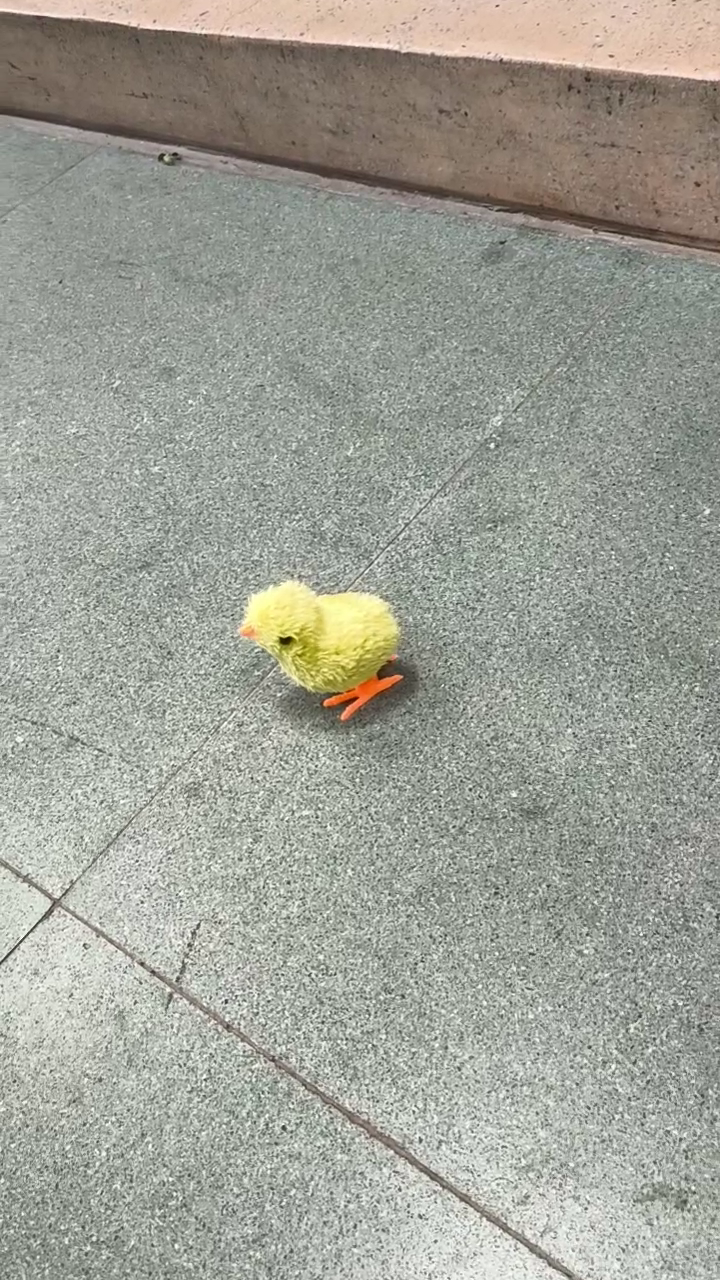yellow chicken: (230, 578, 411, 726)
